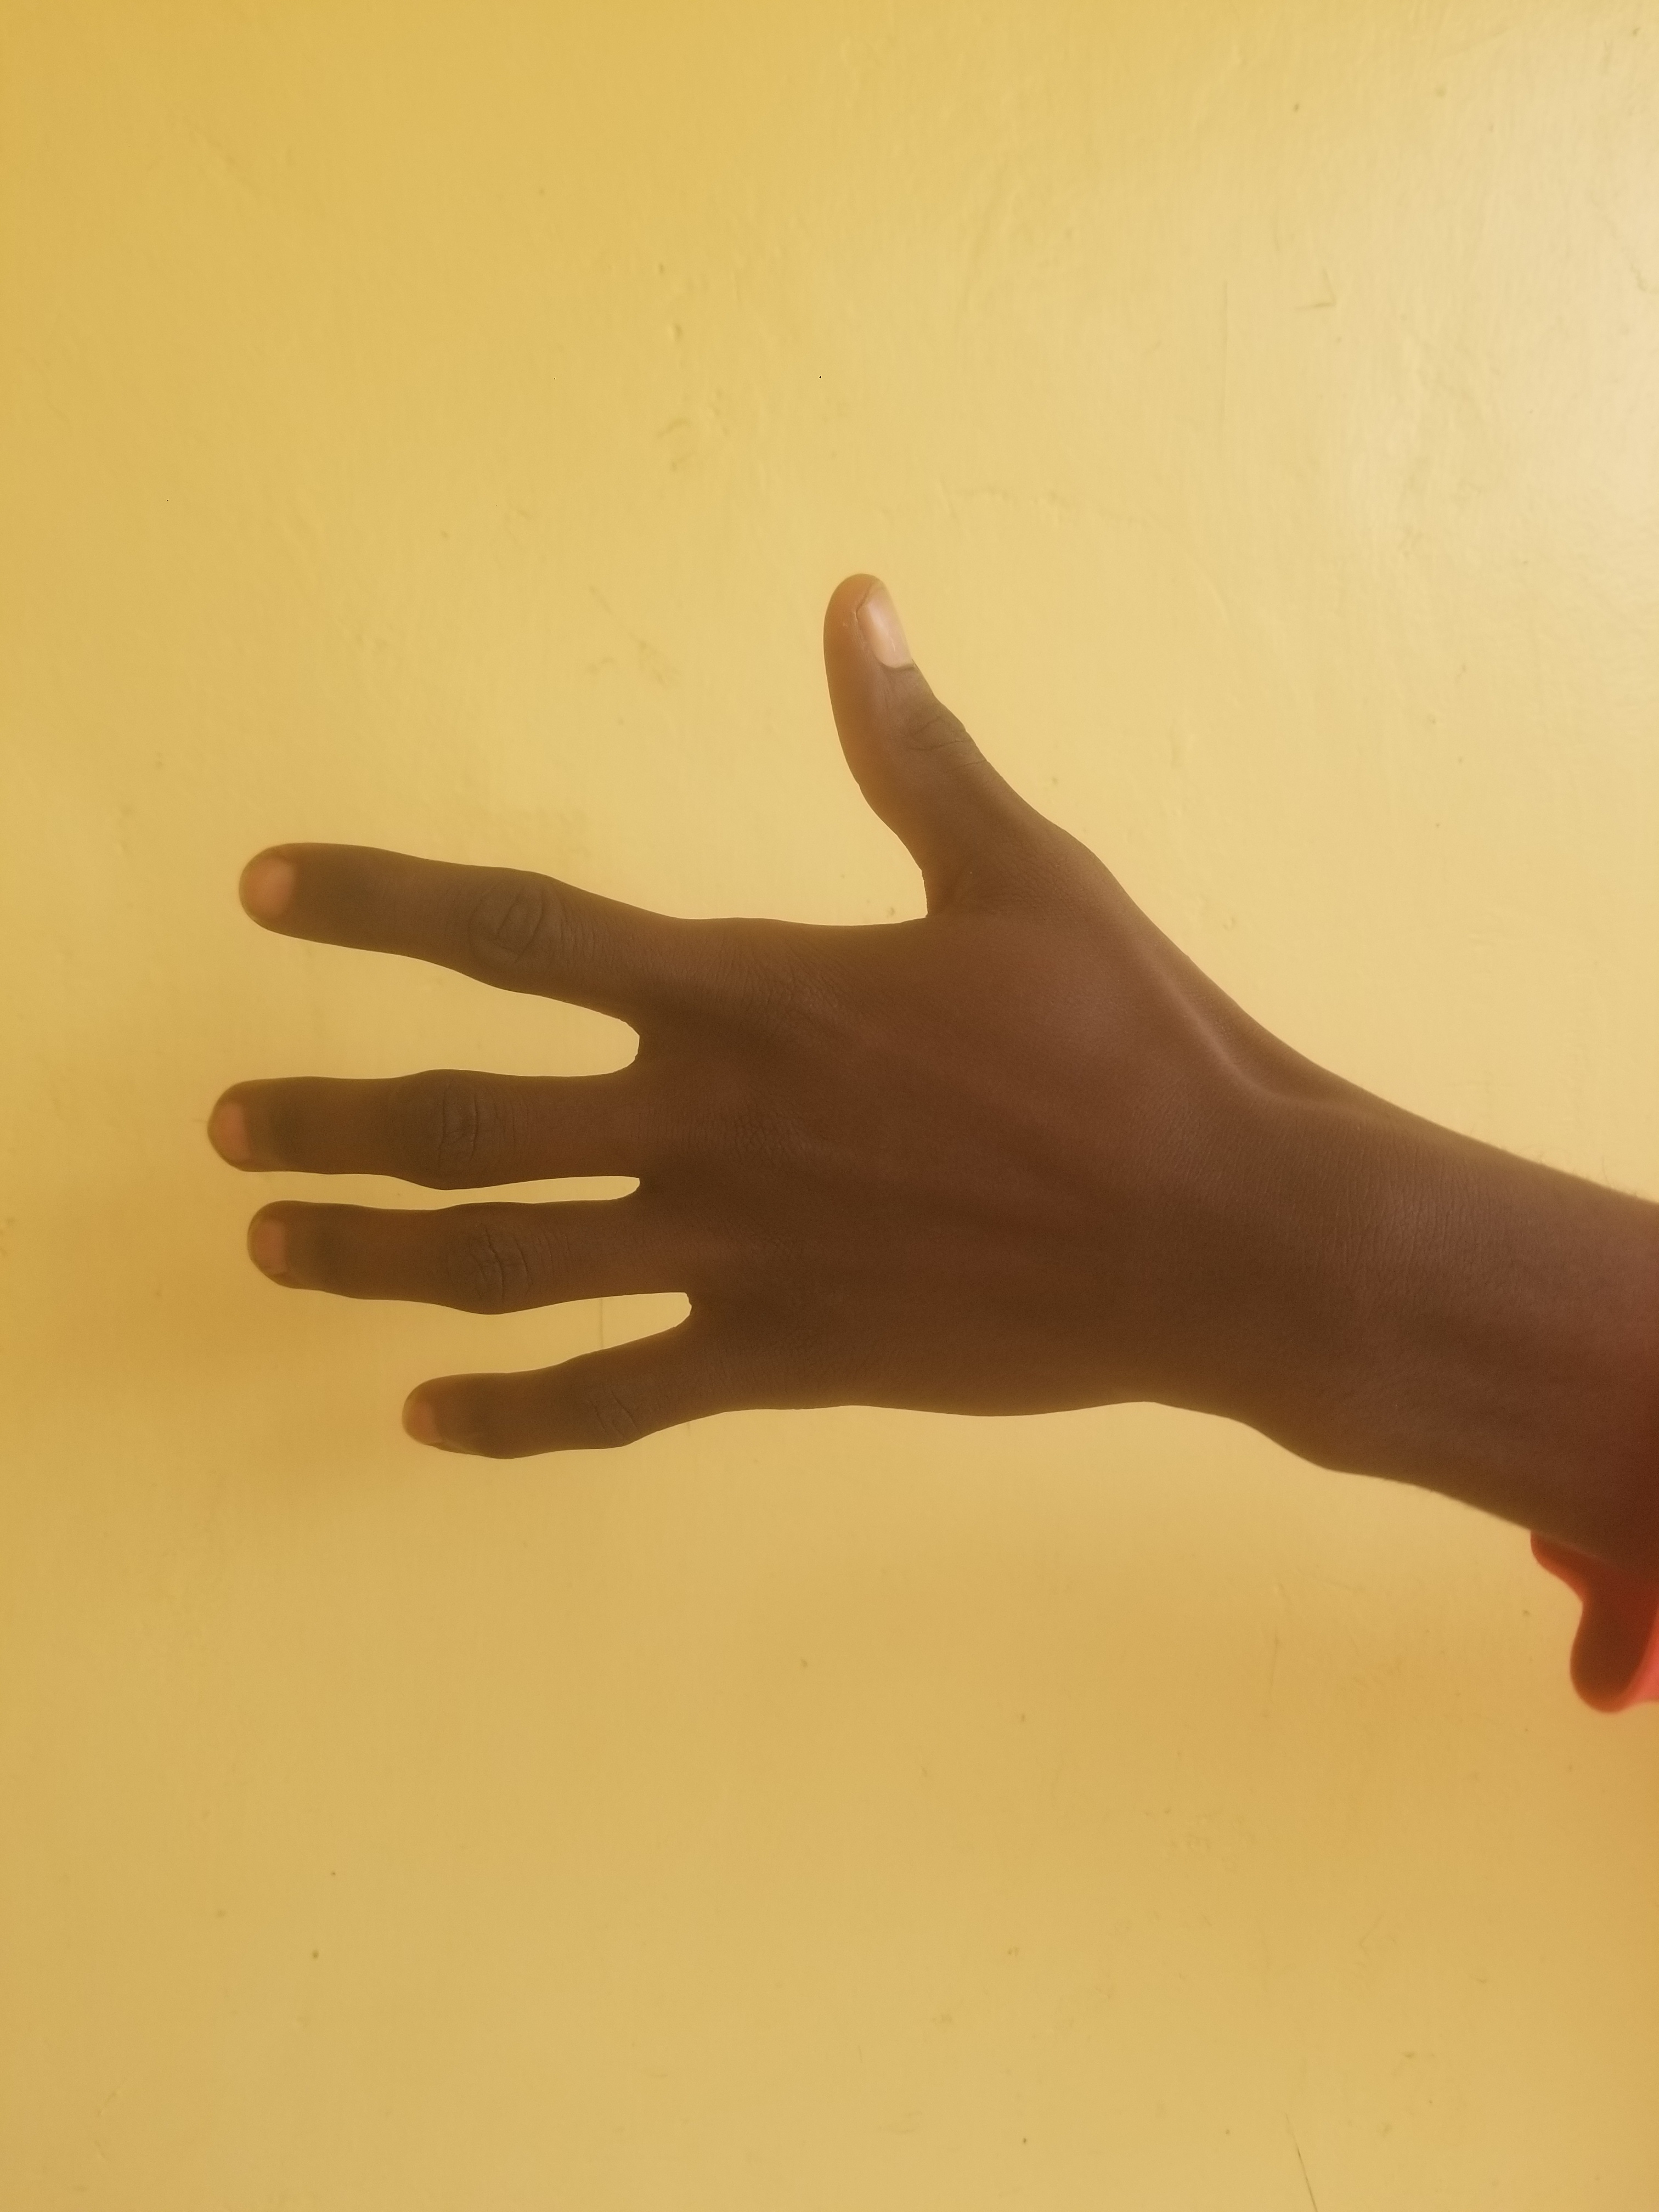open palm: (105, 178, 1560, 2040)
